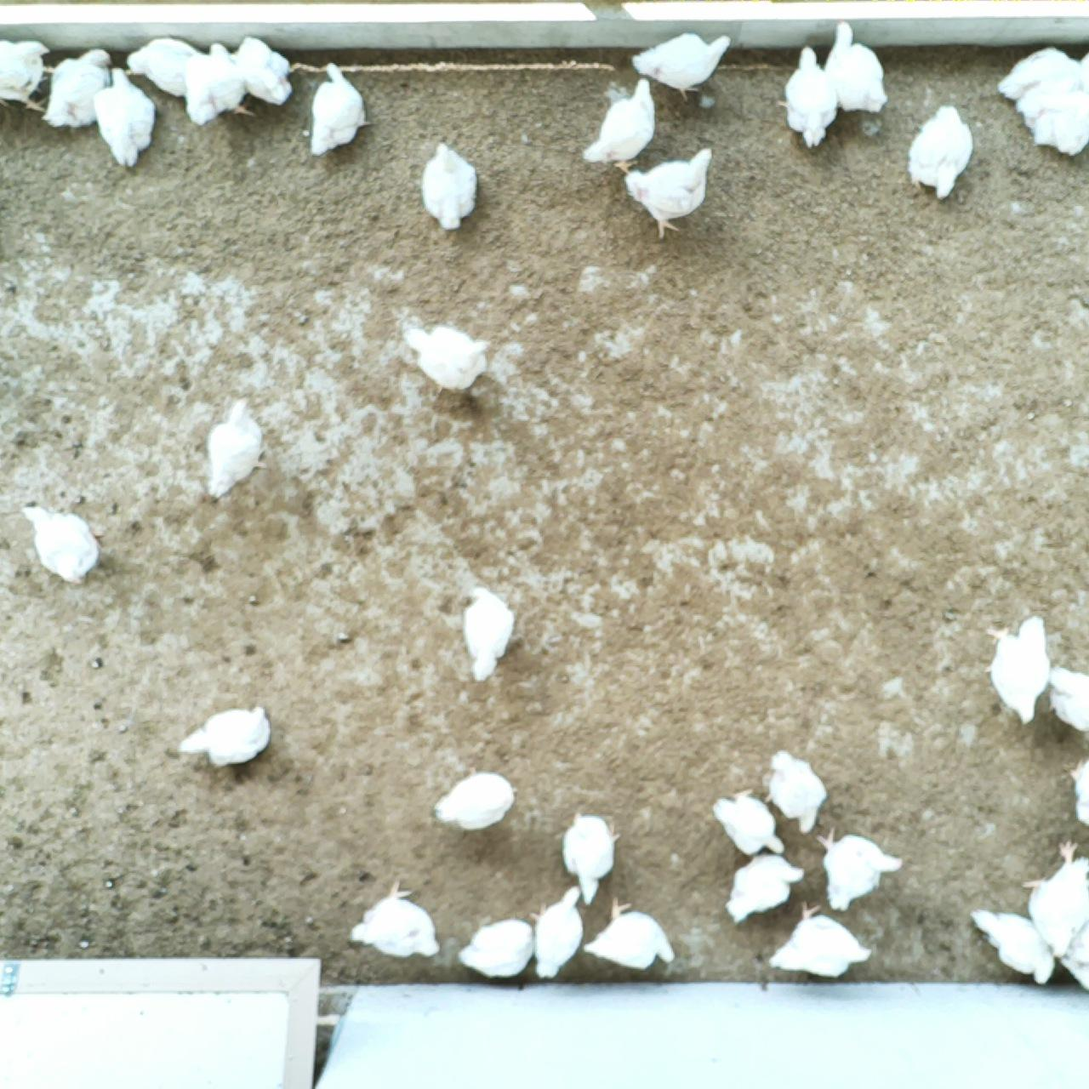chicken: (620, 145, 715, 239), (765, 901, 878, 978), (981, 610, 1053, 722), (812, 822, 905, 908), (579, 77, 663, 172), (1020, 839, 1089, 953), (89, 65, 160, 169), (580, 894, 677, 969), (629, 32, 735, 100), (815, 21, 889, 118), (905, 103, 977, 201), (777, 45, 843, 149), (175, 705, 277, 772), (180, 38, 257, 126), (350, 880, 438, 956), (21, 502, 101, 583), (721, 851, 807, 925), (401, 324, 494, 392), (307, 61, 374, 155), (971, 905, 1051, 982), (562, 806, 624, 905), (41, 46, 114, 129), (202, 398, 262, 498), (529, 881, 586, 985), (416, 141, 483, 229), (762, 747, 828, 835), (1017, 77, 1089, 157), (457, 584, 515, 681), (996, 37, 1089, 97), (432, 770, 517, 834), (711, 788, 789, 856), (455, 915, 536, 979), (127, 37, 205, 99), (230, 34, 294, 106), (0, 37, 52, 115), (1041, 662, 1089, 731), (1054, 916, 1089, 987), (1064, 756, 1089, 828)
